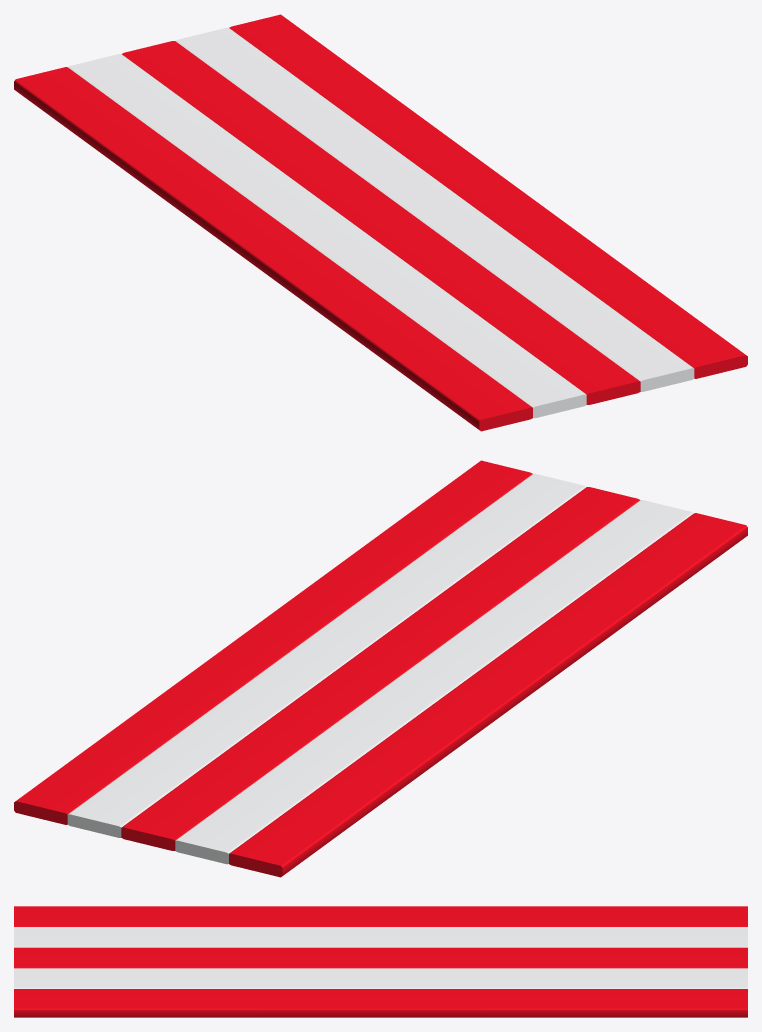
The model's file is platform_candy_002.glb.
3 views of the same model, one above another, from view 1: azimuth 30°, elevation 25°; view 2: azimuth 150°, elevation 25°; view 3: azimuth 270°, elevation 25° (orthographic). The views are drawn at different scales.
Visible parts, largest first — view 1: platform_candy_002; view 2: platform_candy_002; view 3: platform_candy_002.
Boxes of the visible parts, left/top/right/bottom form: platform_candy_002: left=14, top=14, right=747, bottom=431; platform_candy_002: left=14, top=460, right=747, bottom=877; platform_candy_002: left=14, top=906, right=747, bottom=1017.
Bounding box in the file's own units: 12 × 0.5 × 36.
Materials: 1 (1 with a texture image).
